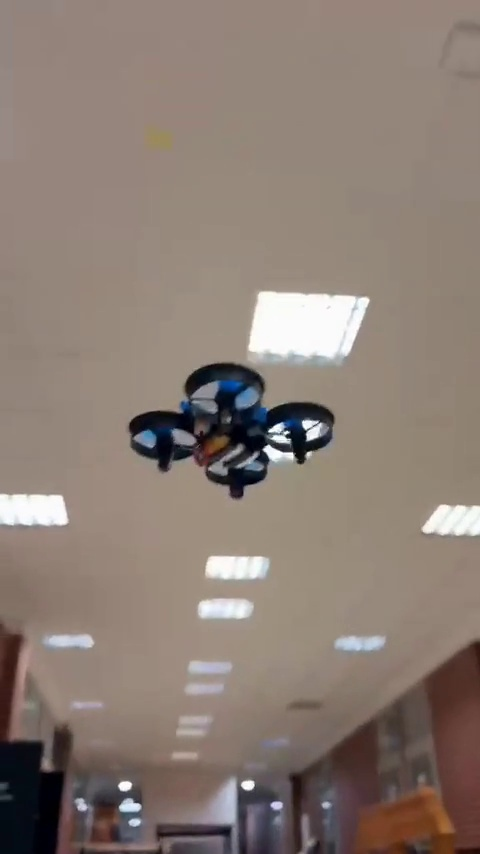drone: (128, 360, 333, 500)
